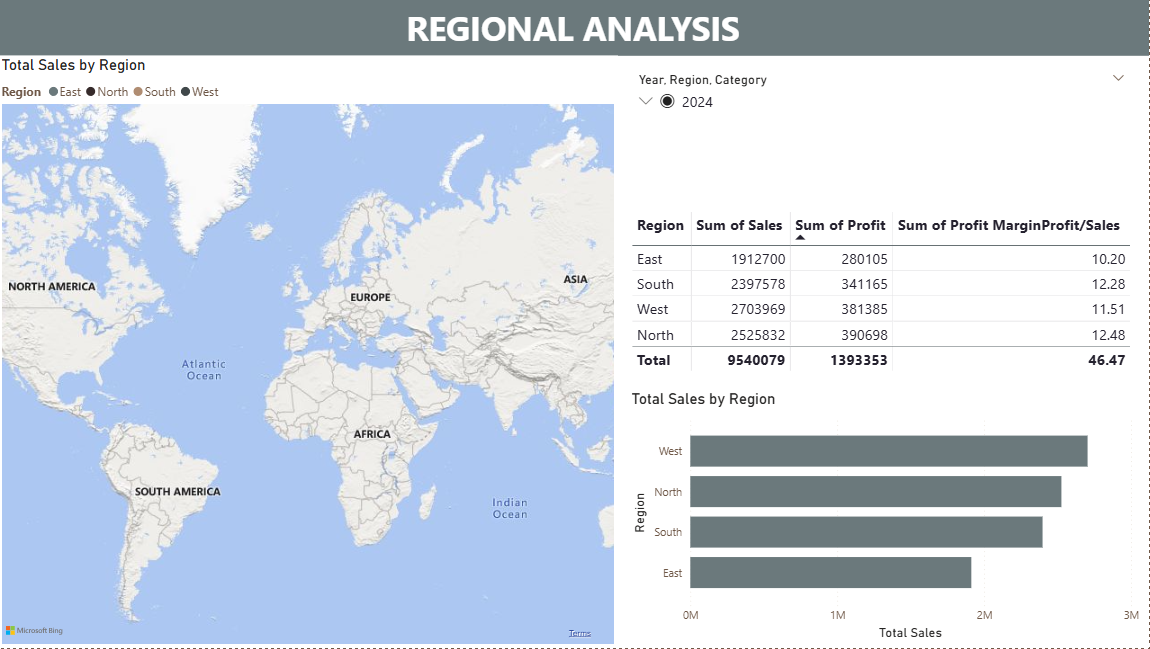

Layout of this report page (visuals, bound fields, positions):
{"tool":"powerbi","page":{"name":"Page 2","canvas":[1280,720],"ordinal":1},"visuals":[{"type":"textbox","box":[0,0,1280.8,61.5],"z":0},{"type":"clusteredBarChart","fields":{"Category":["Sales_Data.Region"],"Y":["Sales_Data.Total Sales"]},"box":[795,477.7,474.4,242.9],"z":1000},{"type":"map","fields":{"Series":["Sales_Data.Region"],"Size":["Sales_Data.Total Sales"]},"box":[0,61.5,780.5,659],"z":2000},{"type":"tableEx","fields":{"Values":["Sales_Data.Region","Sum(Sales_Data.Sales)","Sum(Sales_Data.Profit)","Sum(Sales_Data.Profit MarginProfit/Sales)"]},"box":[780.5,257.5,485.8,199.2],"z":3000},{"type":"slicer","fields":{"Values":["Sales_Data.Year","Sales_Data.Region","Sales_Data.Category"]},"box":[795,74.5,469.6,155.4],"z":4000}]}

Visuals, with their boxes in screenshot pixels (x1, y1, x2, y2), scaled from the page's 1280x720 canvas onto the 1150x649 screenshot:
textbox: (0,0,1149,55)
clusteredBarChart - Sales_Data.Region x Sales_Data.Total Sales: (714,431,1140,648)
map - Sales_Data.Region x Sales_Data.Total Sales: (0,55,701,648)
tableEx - Sales_Data.Region x Sum(Sales_Data.Sales): (701,232,1138,412)
slicer - Sales_Data.Year x Sales_Data.Region: (714,67,1136,207)
